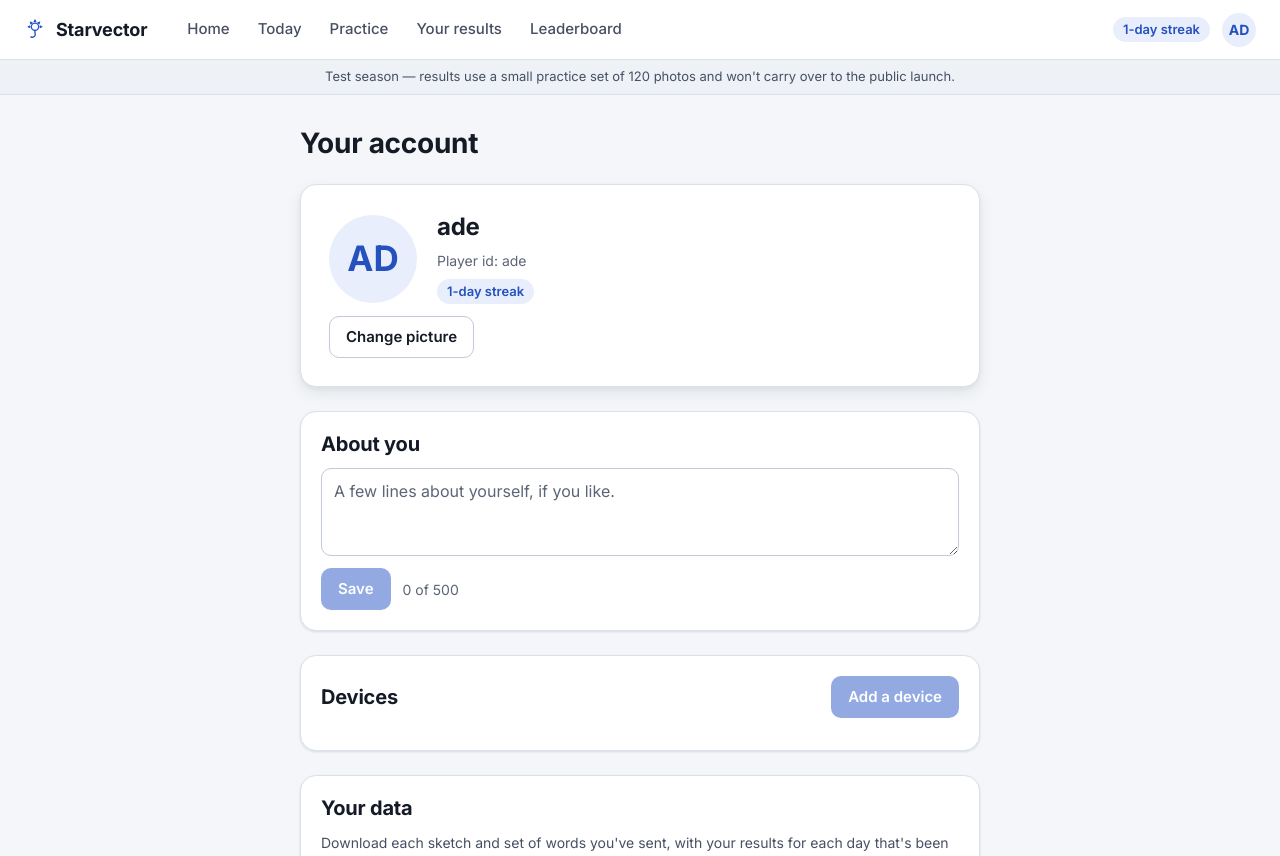
Test: the Account screen (spec A1 §3, spec BR1 §4) › saves the description through putAccount
Expected: the button "Save" is disabled, [321, 568, 390, 610]
Type "I sketch coastlines." into the text box labelled "about you" at (640, 512), box [321, 468, 959, 556]
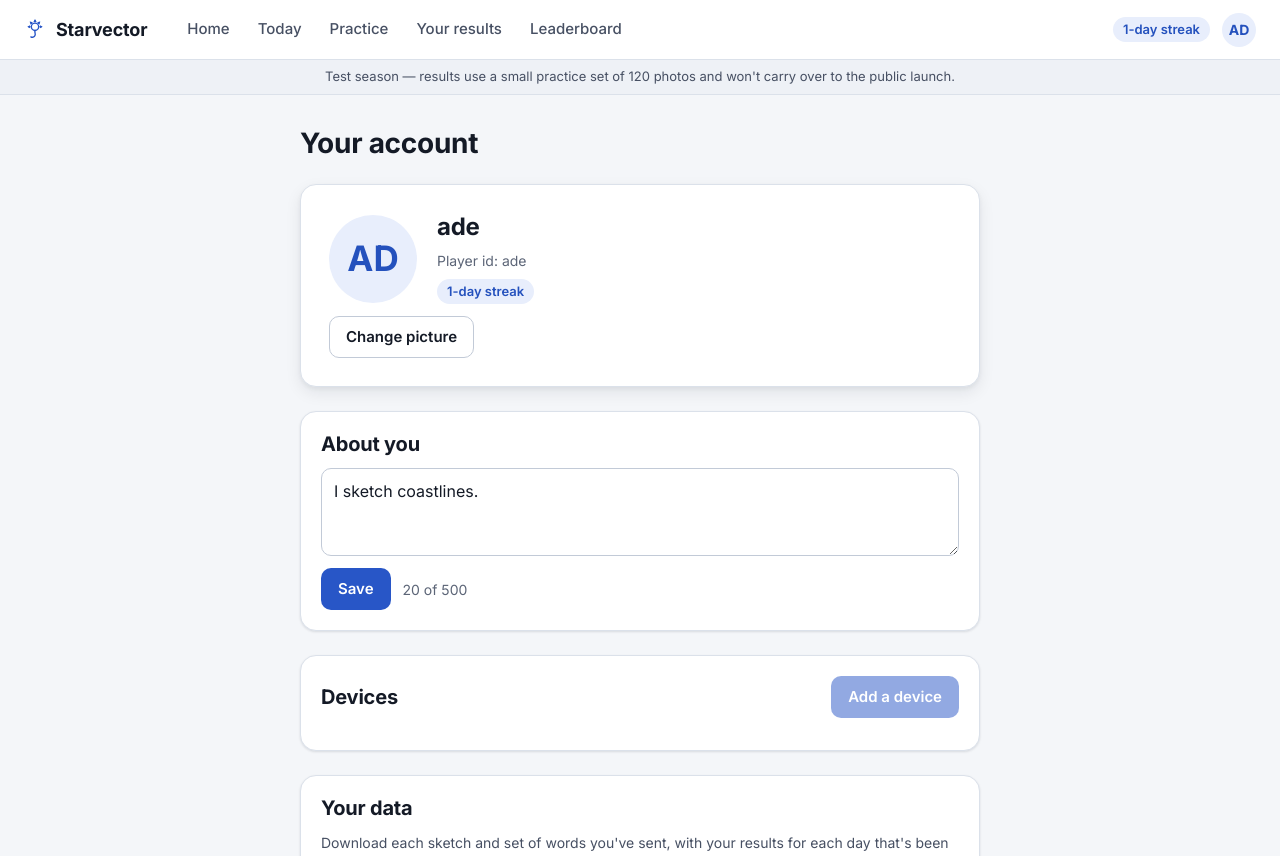
Expected: the button "Save" is enabled
Click the button "Save" at (356, 589), box [321, 568, 390, 610]
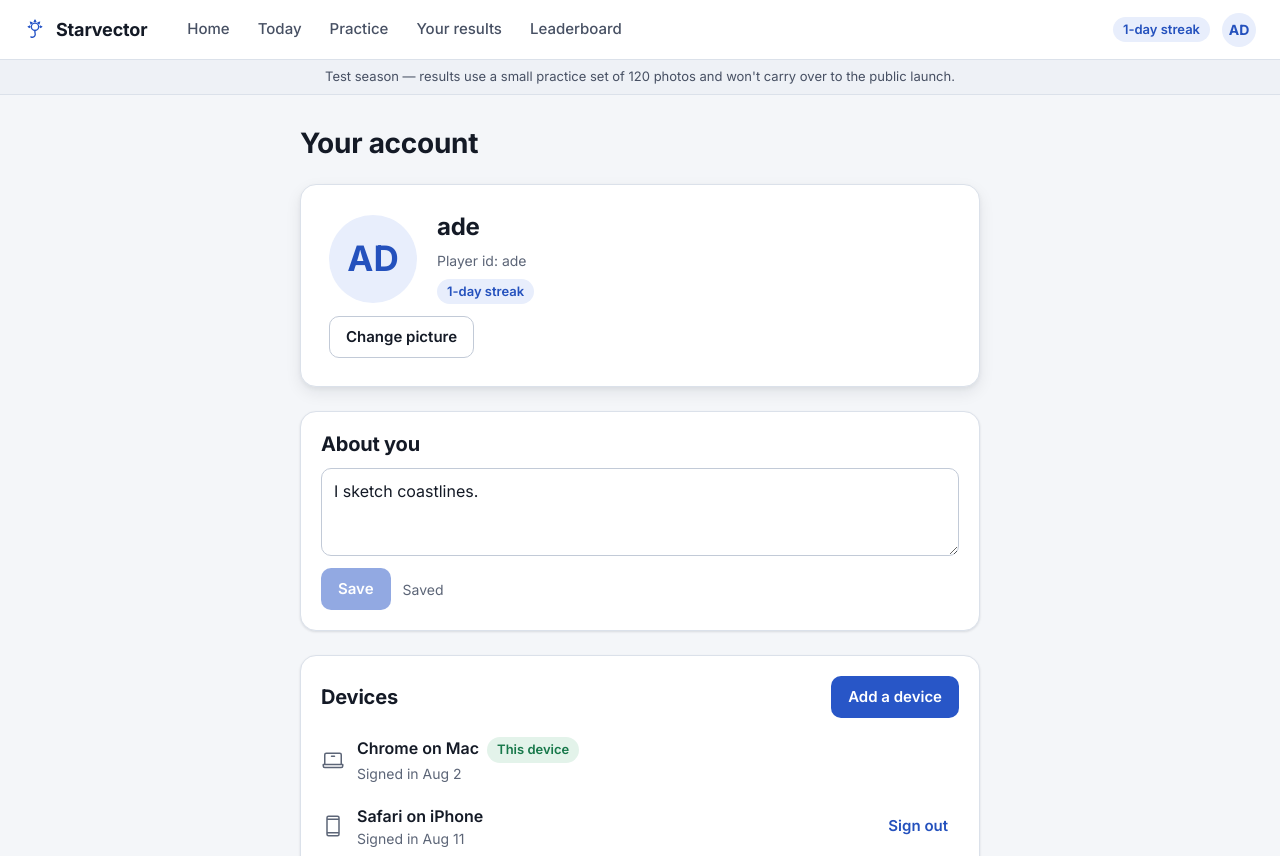
Expected: the text "Saved" is shown, [402, 579, 444, 600]
